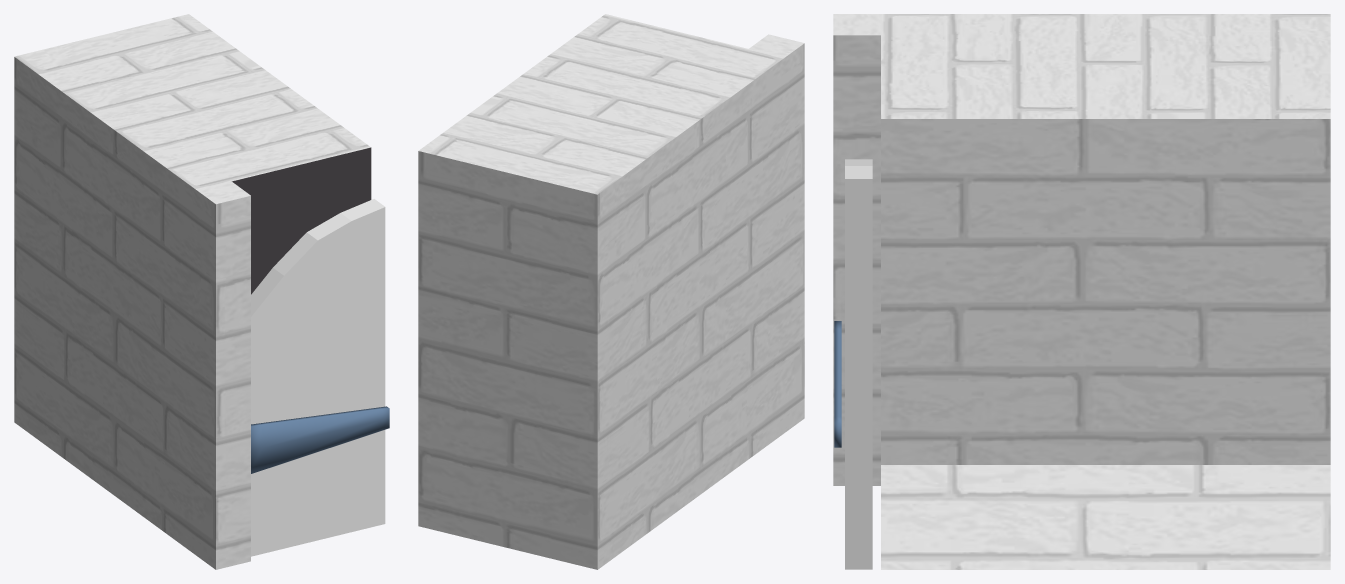
The model's file is castle_type_w.gltf.
The picture shows the model from 3 angles, left to right: view 1: azimuth 30°, elevation 25°; view 2: azimuth 150°, elevation 25°; view 3: azimuth 270°, elevation 25°; orthographic projection. The views are drawn at different scales.
Visible parts, largest first — view 1: Type_W; view 2: Type_W; view 3: Type_W.
Boxes of the visible parts, x1=… form: Type_W: x1=14, y1=14, x2=389, y2=569; Type_W: x1=418, y1=14, x2=804, y2=569; Type_W: x1=833, y1=14, x2=1330, y2=569.
Size of the model in its own units: 0.5001 by 1 by 1.
Materials: 4 (1 with a texture image).
